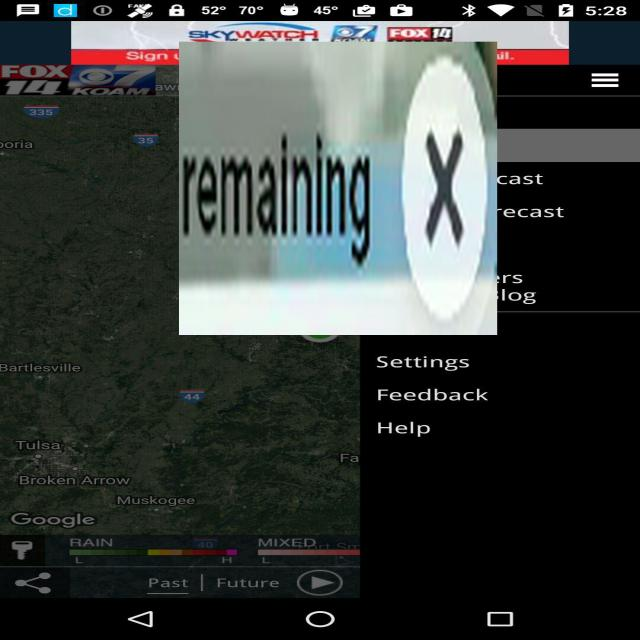misdirection: (179, 42, 497, 335)
